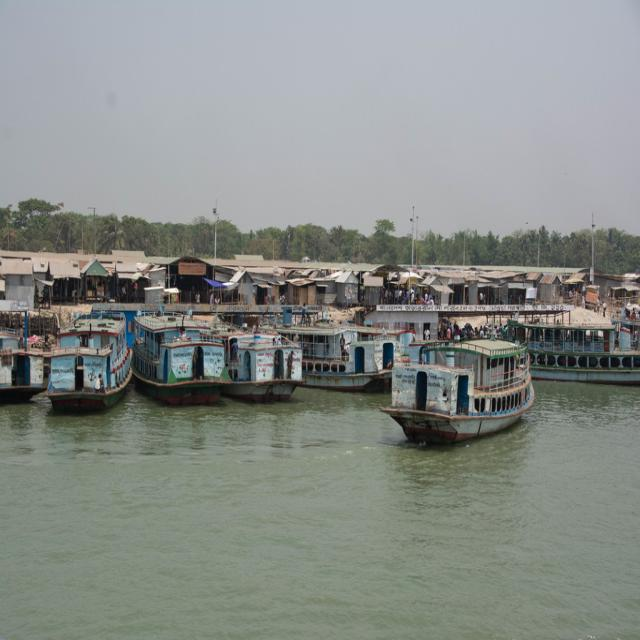Boat: (378, 314, 534, 450), (253, 307, 408, 393), (130, 297, 232, 411), (504, 312, 640, 386), (44, 307, 134, 411), (206, 311, 306, 403), (0, 308, 49, 404), (609, 300, 640, 342)
